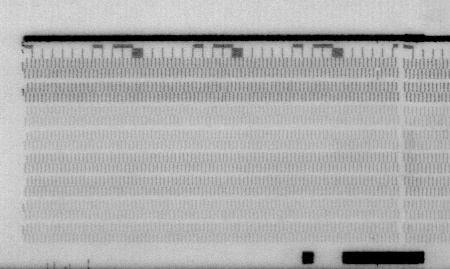Oblique printing: (372, 67, 384, 83), (19, 58, 31, 74), (17, 200, 30, 214), (19, 82, 31, 97)
